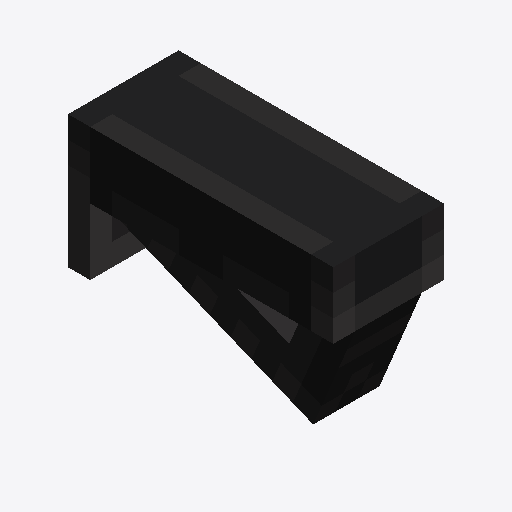
Isometric view (azimuth 45°, elevation 35.3°) of a Minecraft model made of 4 cuboids, textured from the same repository.
Visible parts, largest first — Angled Grip 1, Angled Grip 3, Angled Grip 4, Angled Grip 2.
Part boxes in pixels (left/top/right/bottom): Angled Grip 1: left=68, top=50, right=443, bottom=343; Angled Grip 3: left=272, top=293, right=420, bottom=423; Angled Grip 4: left=122, top=222, right=297, bottom=380; Angled Grip 2: left=68, top=191, right=145, bottom=279.
Bounding box in the file's own units: 1 × 1.52 × 2.4.